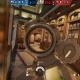Character: (39, 38, 41, 43)
Friend_label: (49, 36, 55, 38), (0, 42, 1, 44)
